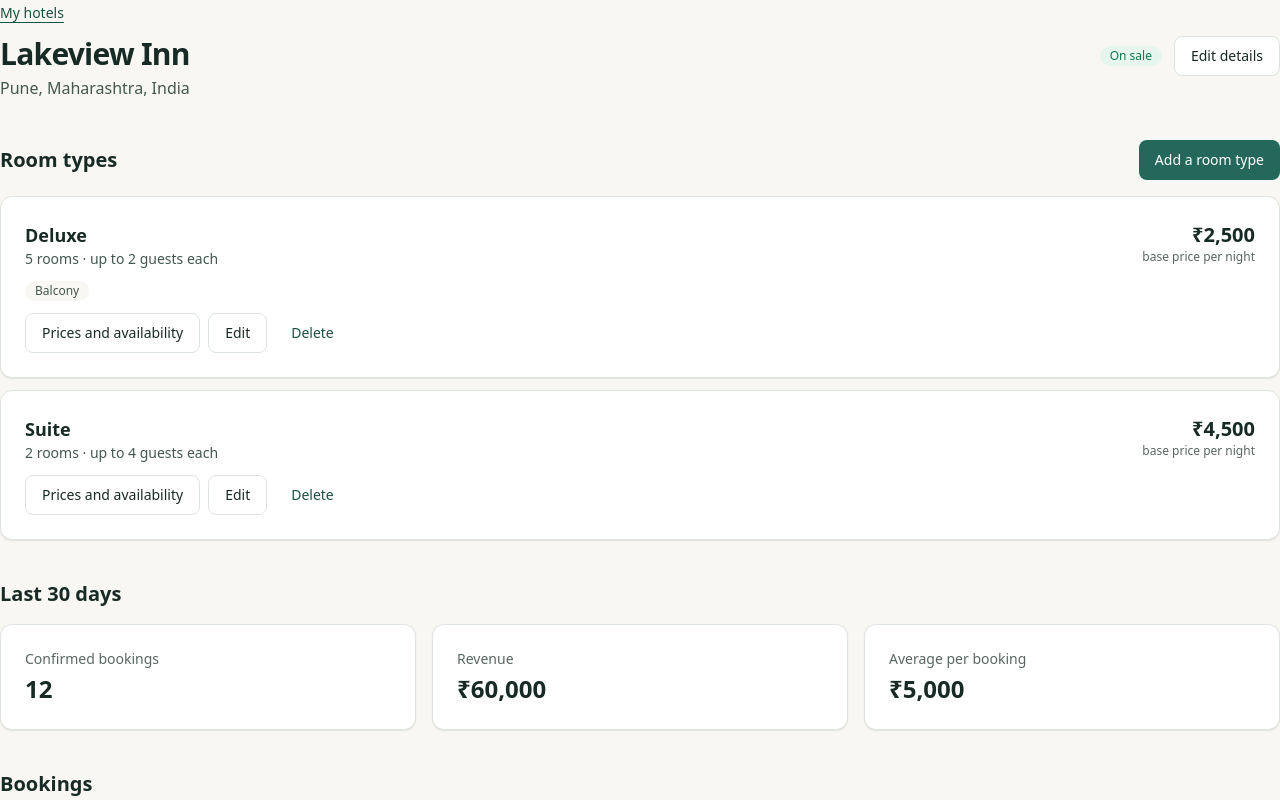
it: room types › asks for a type to be chosen
Click the button "Add a room type" at (1209, 160), box x1=1139 y1=140 x2=1279 y2=180
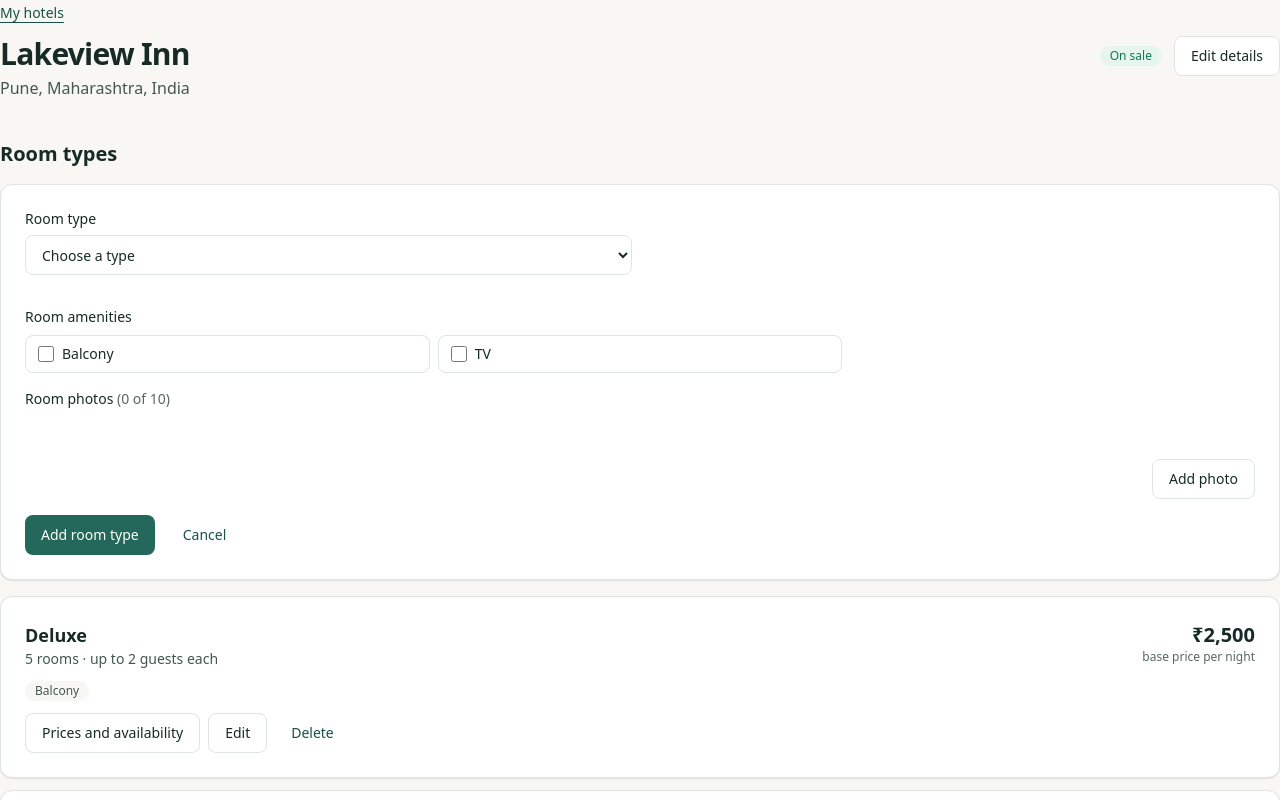
Click the button "Add room type" at (90, 535), box x1=25 y1=515 x2=155 y2=555
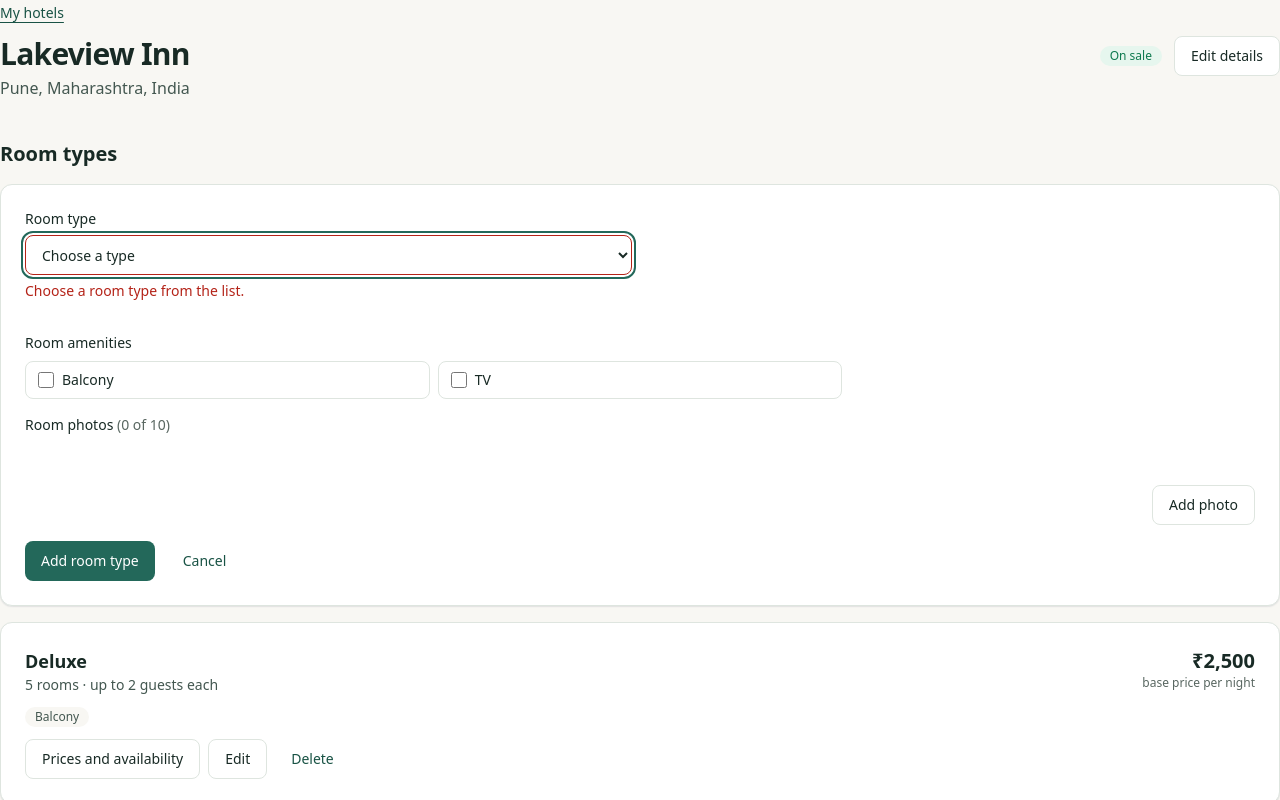
Expected: the text "Choose a room type from the list." is shown, x1=25 y1=281 x2=244 y2=300
